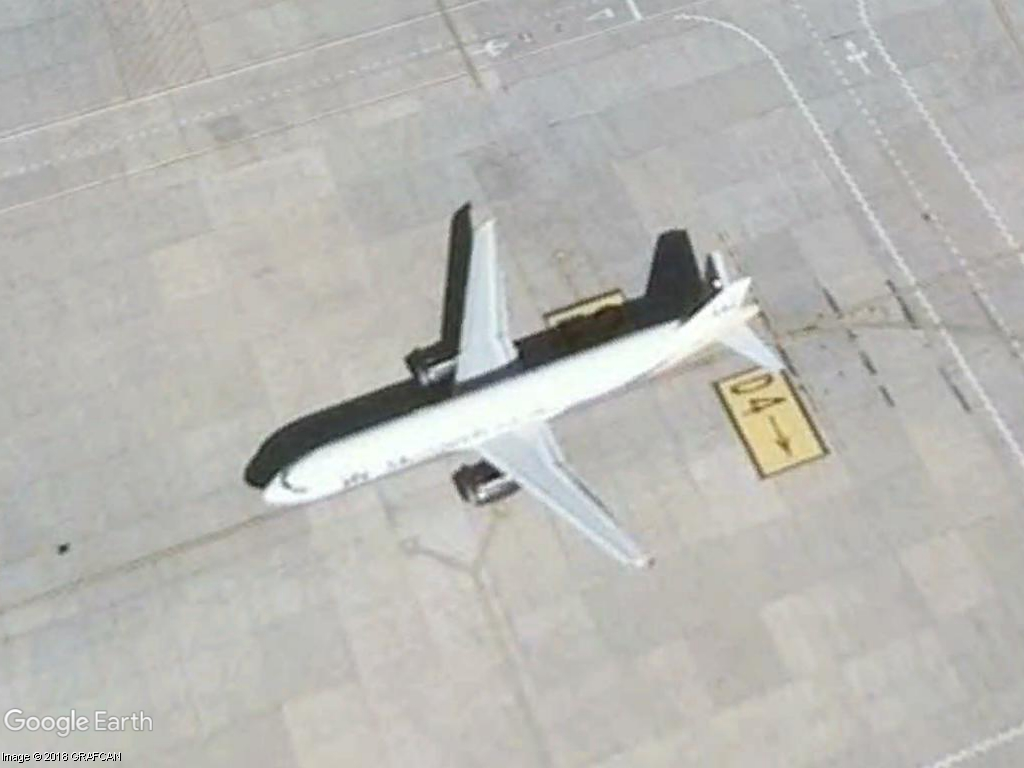airliner: (242, 204, 787, 571)
